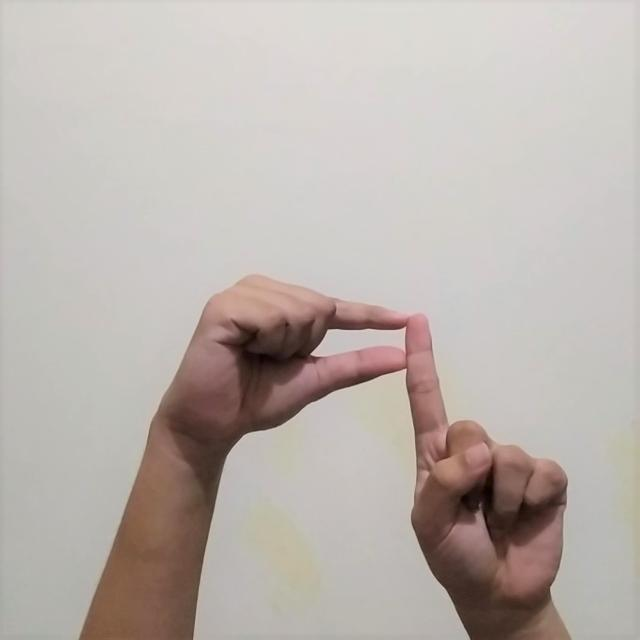P: (124, 248, 582, 620)
